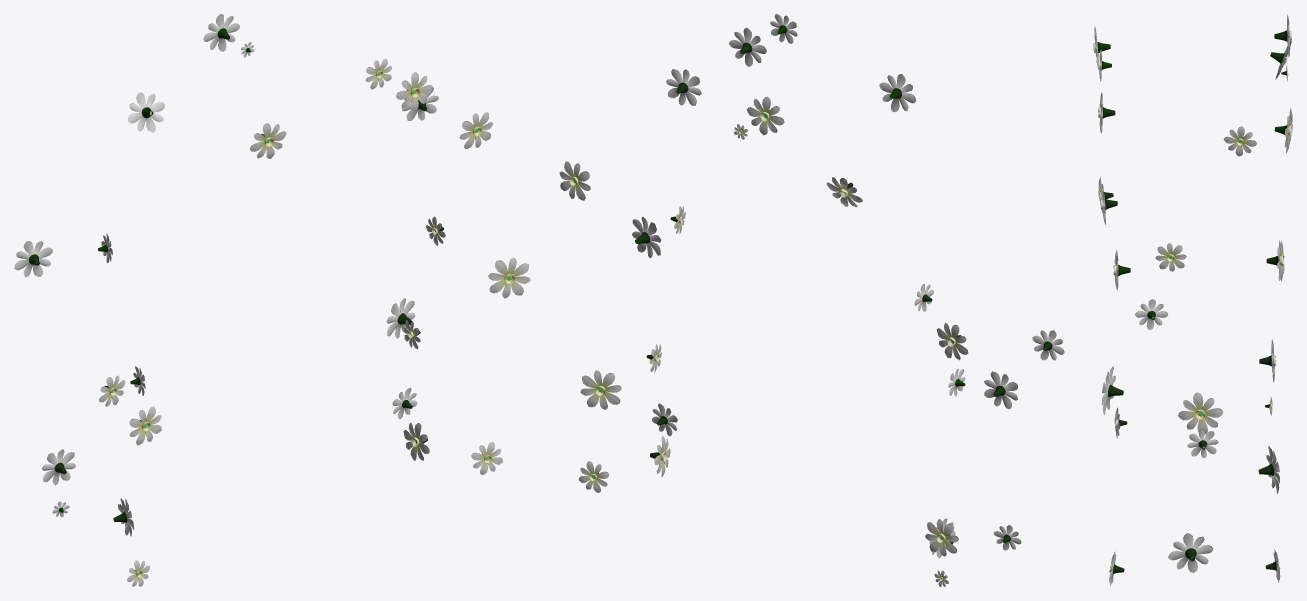
File: hedgemaze_arch_open_flowers2.fbx
The picture shows the model from 3 angles, left to right: view 1: azimuth 30°, elevation 25°; view 2: azimuth 150°, elevation 25°; view 3: azimuth 270°, elevation 25°; orthographic projection. The views are drawn at different scales.
Visible parts, largest first — view 1: pCube46; view 2: pCube46; view 3: pCube46.
Boxes of the visible parts, x1,y1,x2,y2 form: pCube46: (14, 14, 530, 586); pCube46: (559, 14, 1064, 586); pCube46: (1093, 14, 1292, 586).
Bounding box in the file's own units: 4.33 × 4.55 × 1.62.
